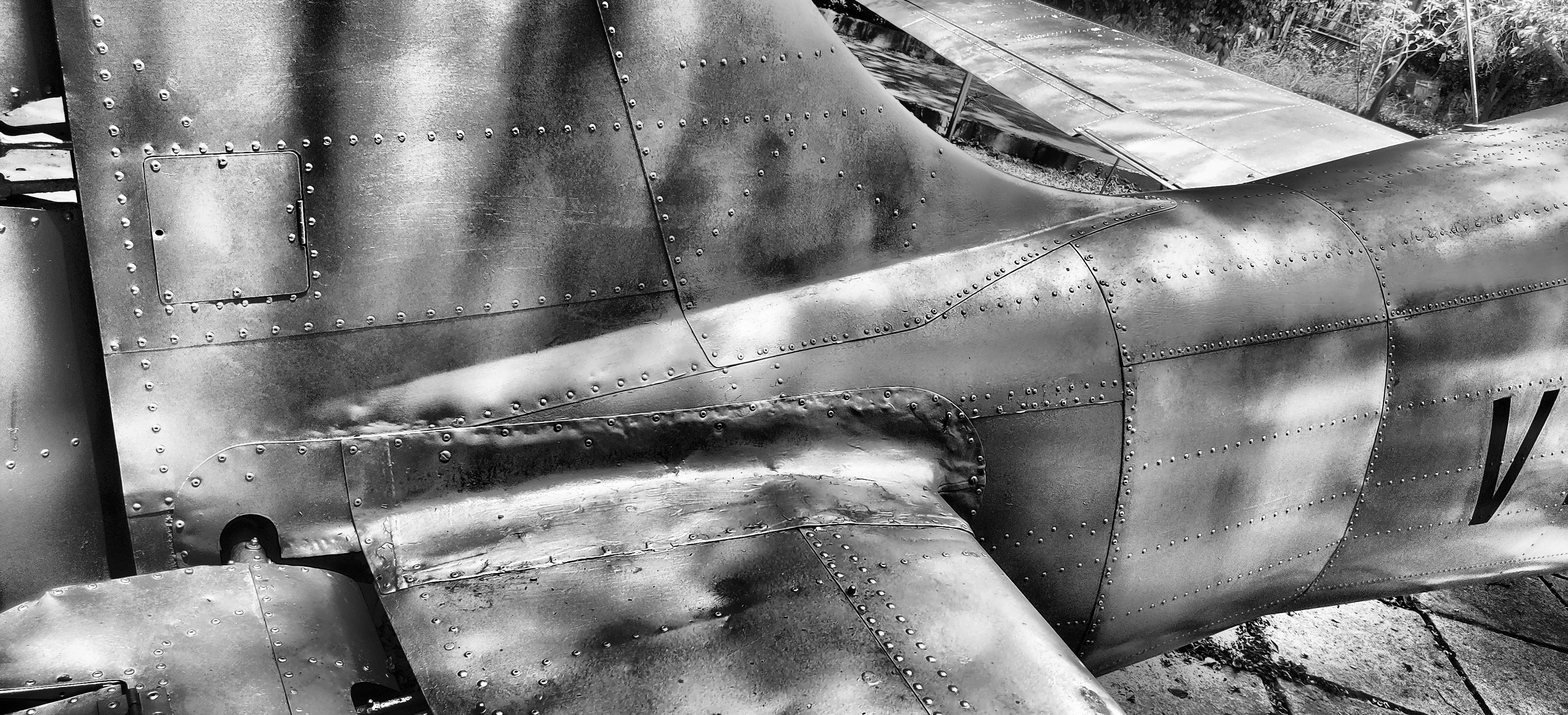crack: (1487, 128, 1500, 131)
dent: (663, 431, 712, 473), (662, 409, 710, 428), (608, 414, 640, 442), (846, 401, 894, 413), (513, 426, 545, 440)
missing-head: (155, 229, 165, 238), (376, 575, 384, 582), (1484, 145, 1489, 148), (1455, 154, 1461, 156), (1472, 149, 1478, 151), (1483, 162, 1489, 164), (1497, 158, 1502, 160)
